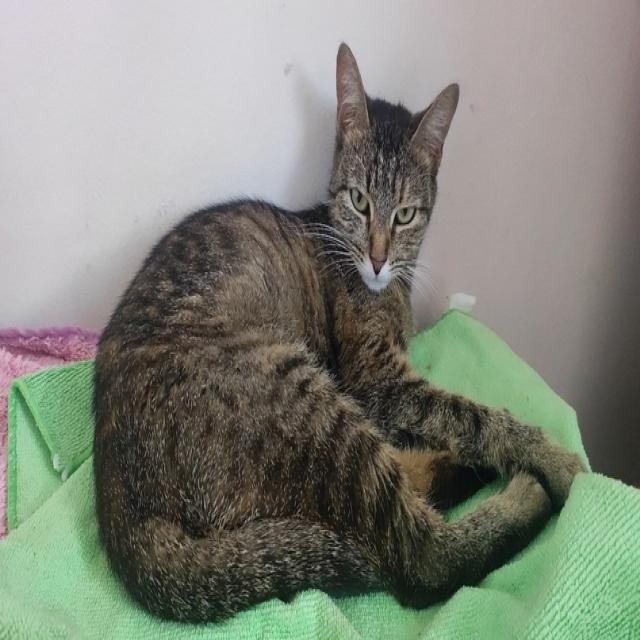Cats: (92, 47, 586, 624)
